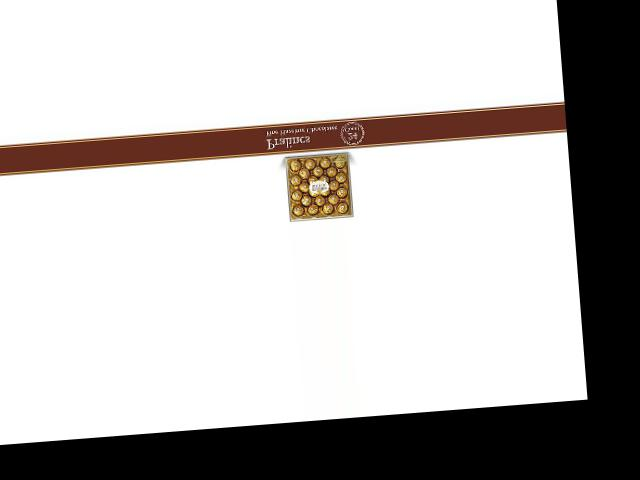chocolate: (282, 148, 358, 226)
